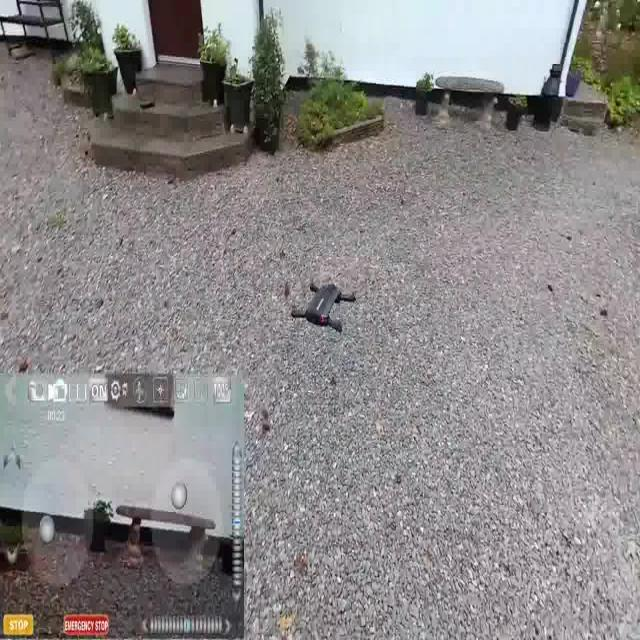drones: (288, 264, 356, 347)
